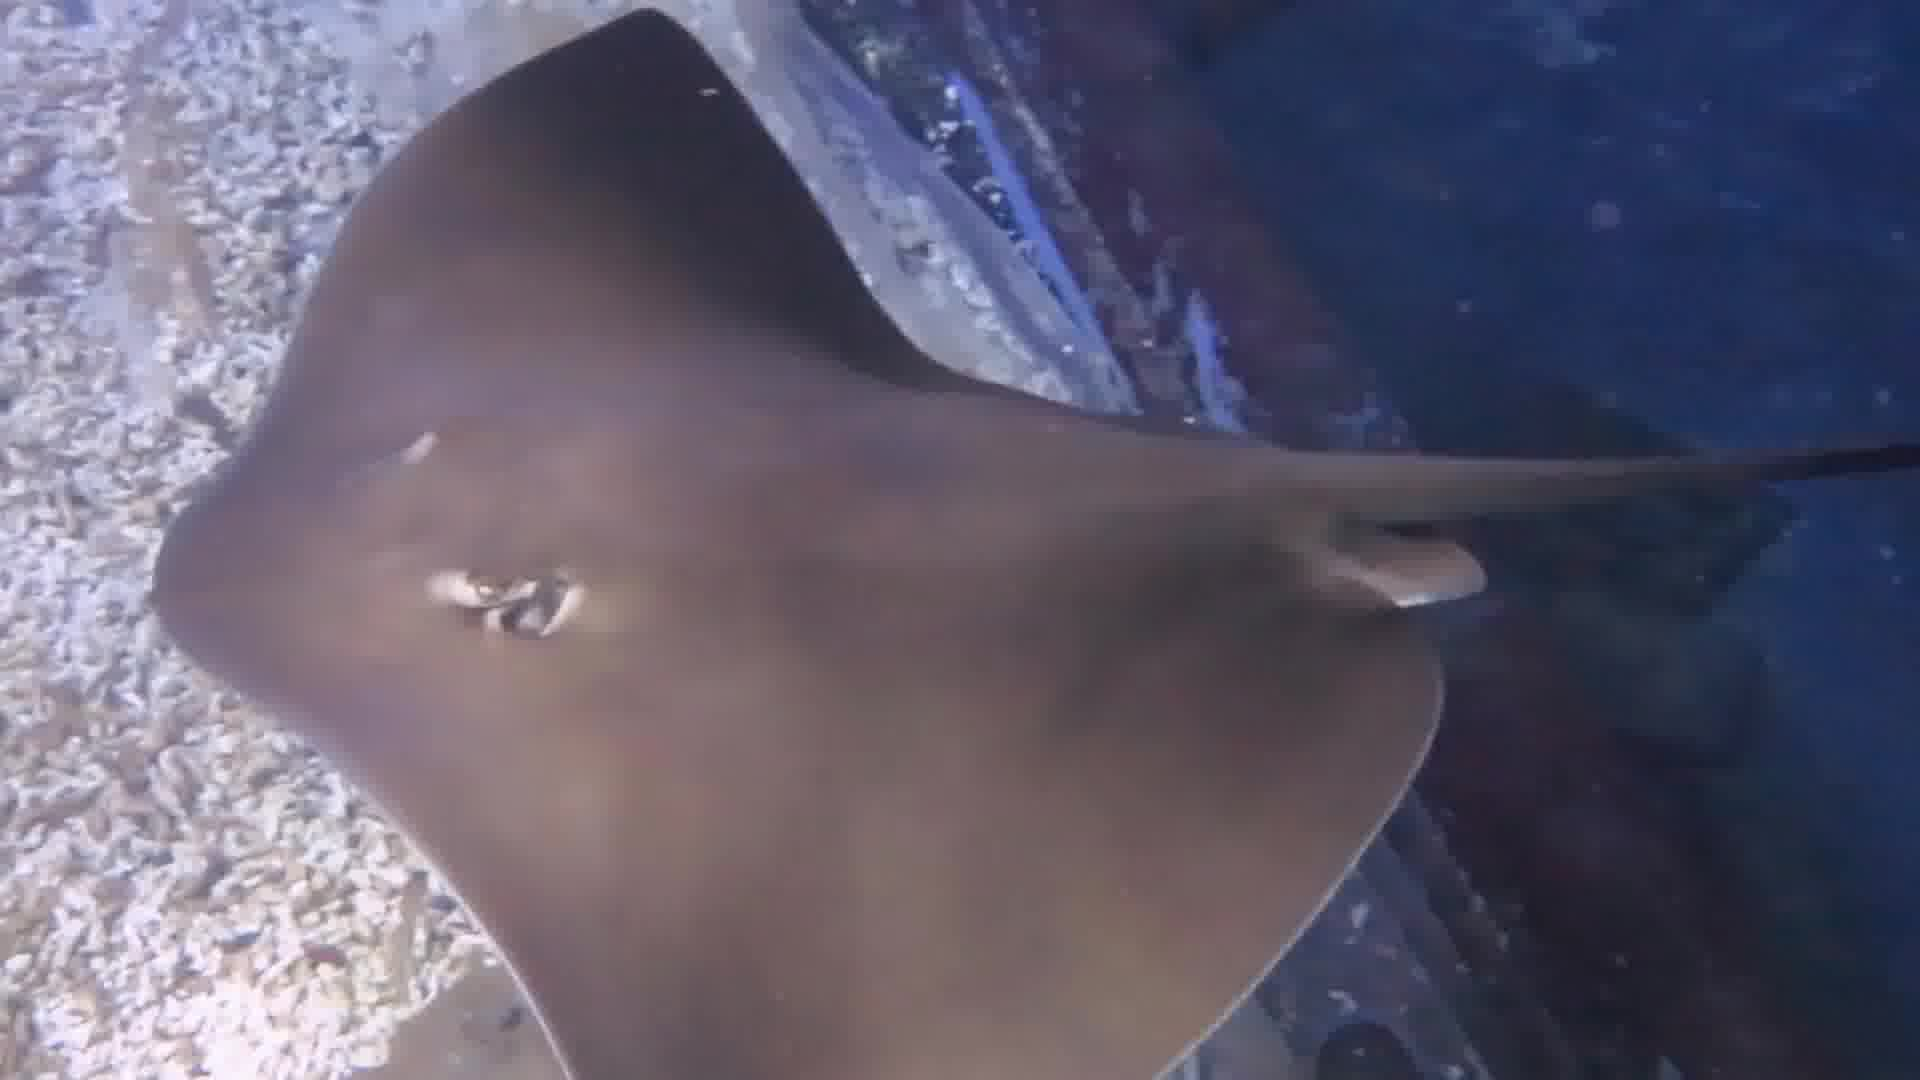Dasyatis akajei: (123, 1, 1920, 1080)
